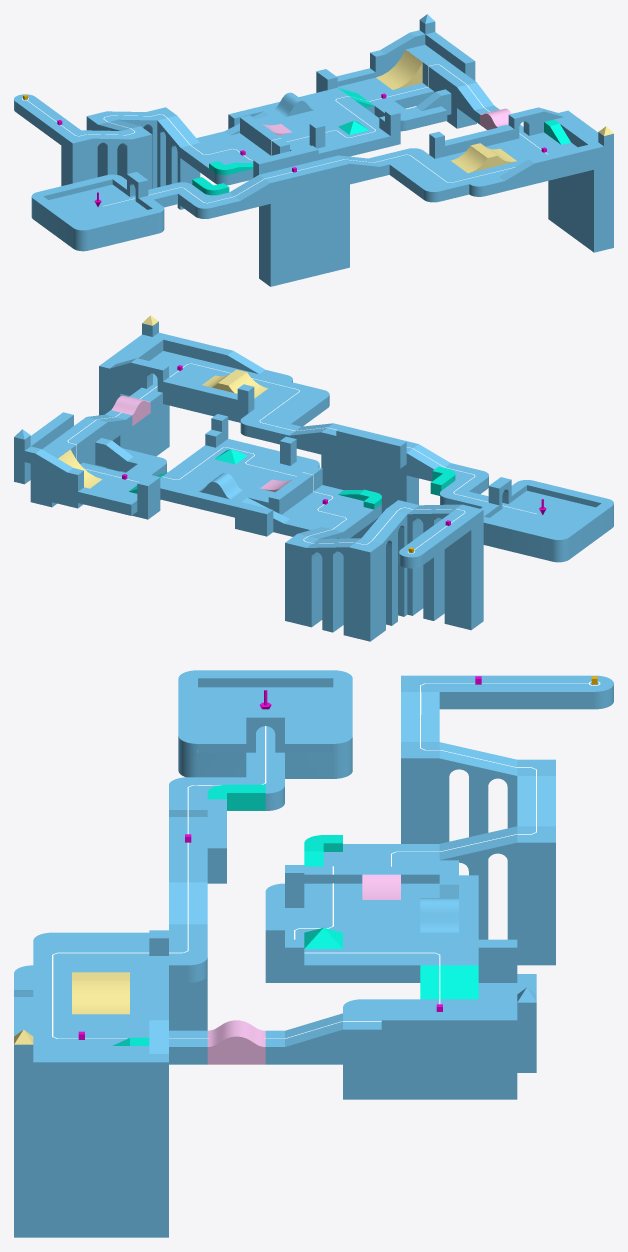
The model's file is maze_platform_2.glb.
The picture shows the model from 3 angles, top to bottom: view 1: azimuth 30°, elevation 25°; view 2: azimuth 150°, elevation 25°; view 3: azimuth 270°, elevation 25°; orthographic projection. The views are drawn at different scales.
Parts seen in each view (by area): view 1: block_2x2x1__6_, platform_start, block_1x1x1__25_, block_1x1x1__33_, block_2x2x1__8_, block_2x2x1__10_, block_1x1x1__24_, block_1x1x1__30_, block_1x1x1_2, block_1x1x1__36_, block_1x1x1__1_, block_1x1x1__6_ (+37 smaller); view 2: platform_start, block_1x1x1__33_, block_2x2x1__8_, block_2x2x1__6_, block_1x1x1__25_, block_1x1x1_2, block_1x1x1__8_, block_2x2x1__10_, block_1x1x1__36_, block_1x1x1__6_, block_1x1x1__16_, arch_support__7_ (+38 smaller); view 3: block_1x1x1__25_, platform_start, block_1x1x1__33_, block_2x2x1__11_, block_2x2x1__8_, block_2x2x1__10_, block_1x1x1__16_, block_2x2x1__6_, block_1x1x1__1_, block_1x1x1__38_, block_2x_5x_5__4_, ramp_1x1x1__7_ (+38 smaller).
Boxes of the visible parts, x1,y1,x2,y2 form: block_2x2x1__6_: [259, 155, 349, 286]; platform_start: [31, 174, 164, 251]; block_1x1x1__25_: [548, 110, 613, 252]; block_1x1x1__33_: [258, 87, 400, 159]; block_2x2x1__8_: [389, 132, 577, 199]; block_2x2x1__10_: [406, 44, 476, 128]; block_1x1x1__24_: [529, 144, 593, 183]; block_1x1x1__30_: [337, 77, 434, 114]; block_1x1x1_2: [61, 130, 92, 185]; block_1x1x1__36_: [196, 131, 270, 182]; block_1x1x1__1_: [121, 126, 152, 189]; block_1x1x1__6_: [253, 145, 318, 177]; platform_start: [483, 480, 613, 562]; block_1x1x1__33_: [160, 439, 302, 517]; block_2x2x1__8_: [120, 355, 327, 426]; block_2x2x1__6_: [321, 423, 418, 538]; block_1x1x1__25_: [99, 332, 169, 472]; block_1x1x1_2: [450, 504, 483, 630]; block_1x1x1__8_: [349, 538, 382, 641]; block_2x2x1__10_: [30, 417, 107, 507]; block_1x1x1__36_: [273, 485, 358, 536]; block_1x1x1__6_: [336, 426, 406, 468]; block_1x1x1__16_: [285, 534, 318, 625]; arch_support__7_: [327, 551, 348, 636]; block_1x1x1__25_: [14, 1046, 168, 1237]; platform_start: [178, 670, 352, 778]; block_1x1x1__33_: [265, 900, 478, 982]; block_2x2x1__11_: [381, 1012, 536, 1072]; block_2x2x1__8_: [52, 932, 149, 1045]; block_2x2x1__10_: [343, 1013, 517, 1099]; block_1x1x1__16_: [517, 826, 555, 965]; block_2x2x1__6_: [169, 817, 207, 1030]; block_1x1x1__1_: [401, 742, 439, 843]; block_1x1x1__38_: [439, 675, 536, 709]; block_2x_5x_5__4_: [304, 866, 439, 883]; ramp_1x1x1__7_: [420, 965, 478, 999].
Bounding box in the file's own units: 49 × 12.64 × 31.
